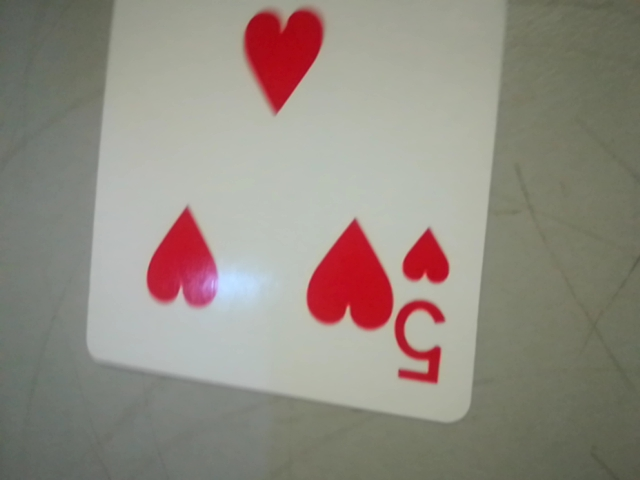hx 5: (387, 213, 464, 402)
